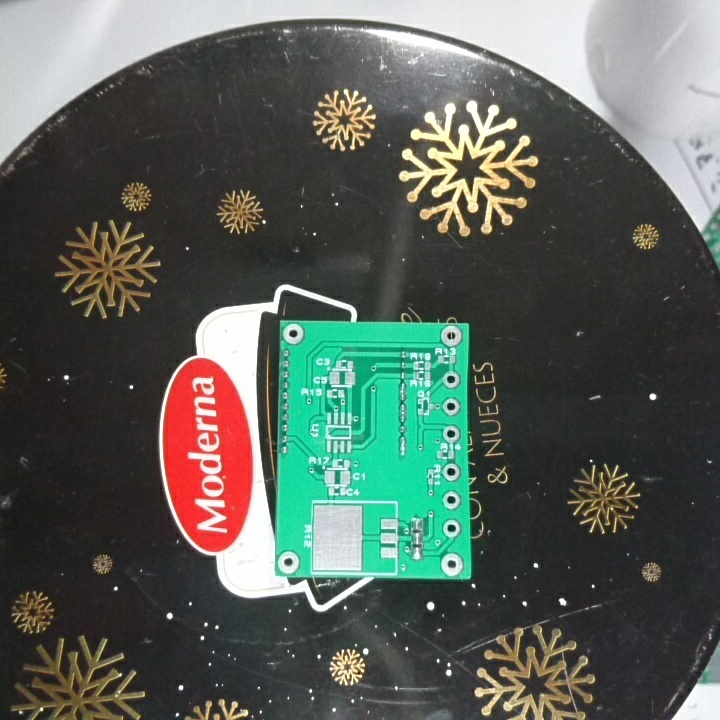F: (280, 321, 306, 347), (439, 552, 464, 578), (277, 549, 303, 574), (439, 324, 465, 348), (440, 489, 463, 512), (440, 460, 462, 483), (441, 368, 462, 392), (440, 397, 462, 419), (439, 423, 462, 444), (441, 518, 462, 539)
P: (397, 435, 409, 458), (397, 380, 407, 403), (397, 403, 408, 423)
